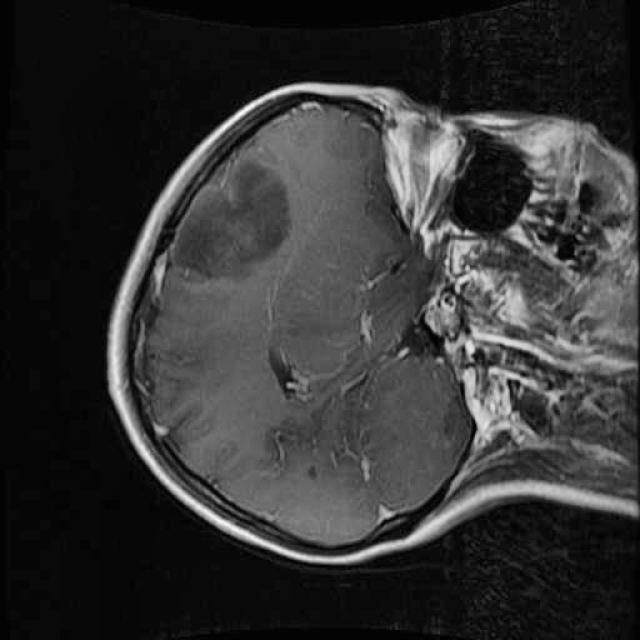Tumor: (167, 131, 309, 300)
